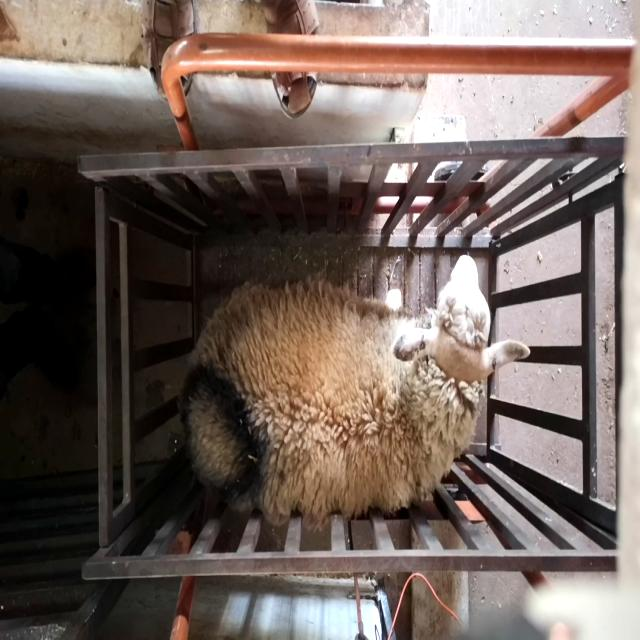sheep: (179, 254, 531, 529)
